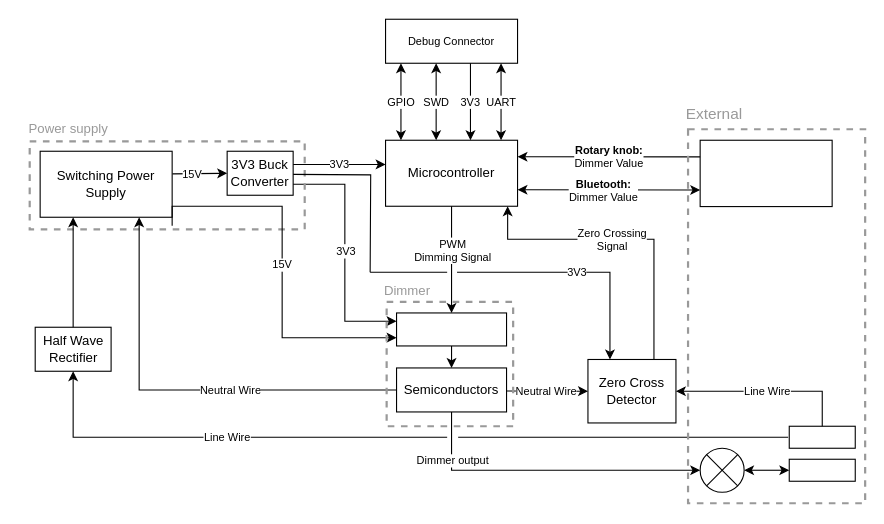
Some shapes in this 884 by 524 pixel diagram are drawn without their labels. The centre of each missing label's shape, as x and y in pixels:
"Gate Driver" goes at (x=451, y=329).
"Line" goes at (x=821, y=436).
"Neutral" goes at (x=821, y=469).
"User" goes at (x=765, y=173).
